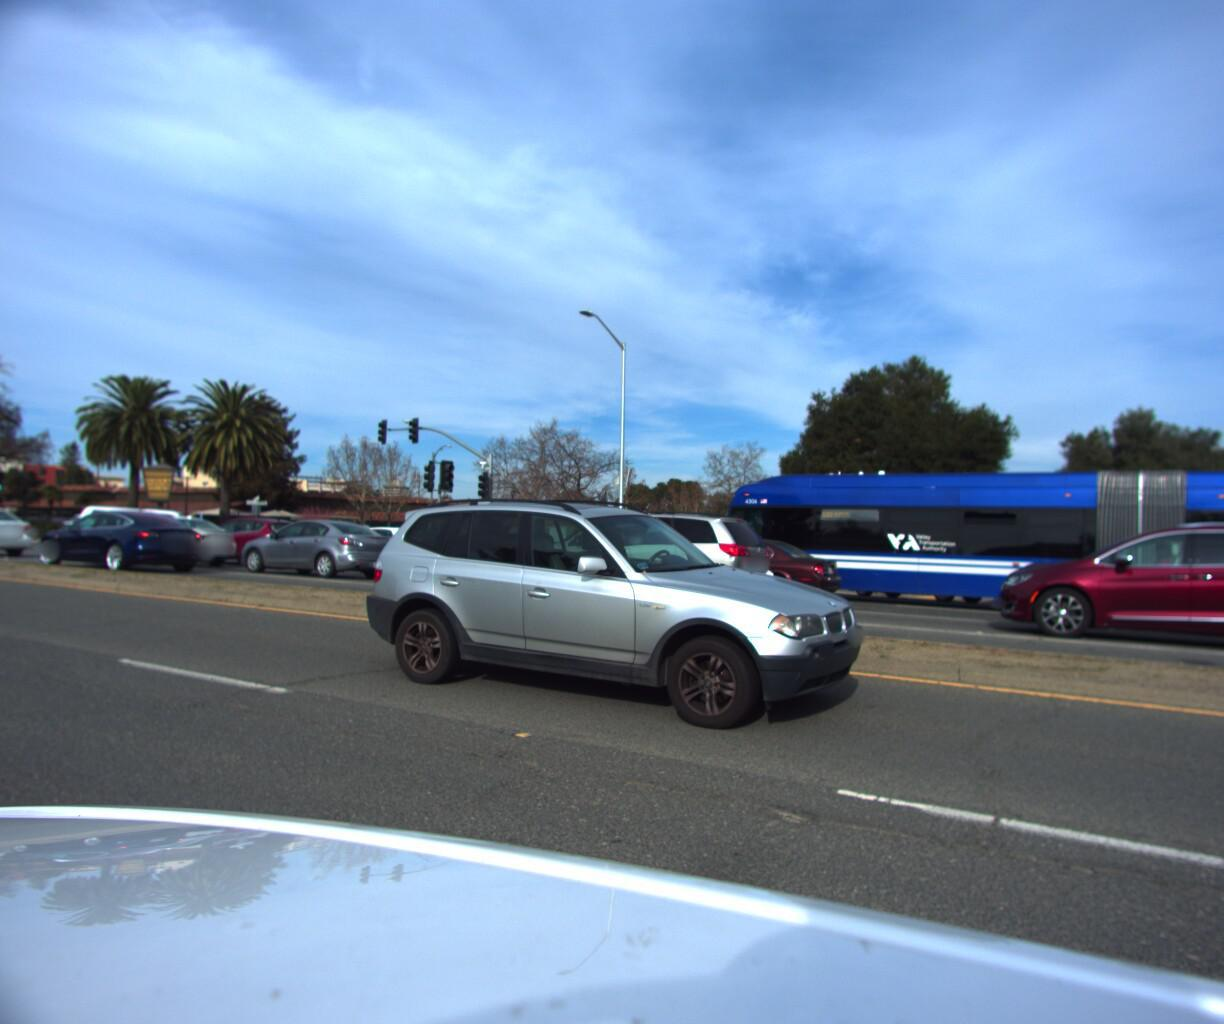bus: (699, 456, 1224, 667)
car: (351, 484, 883, 739), (969, 506, 1224, 668), (505, 503, 794, 619), (622, 531, 851, 608), (219, 515, 423, 589), (28, 510, 221, 576), (353, 524, 535, 587), (80, 513, 248, 574), (289, 521, 444, 581), (83, 503, 238, 553), (171, 516, 311, 569), (0, 507, 40, 561)
